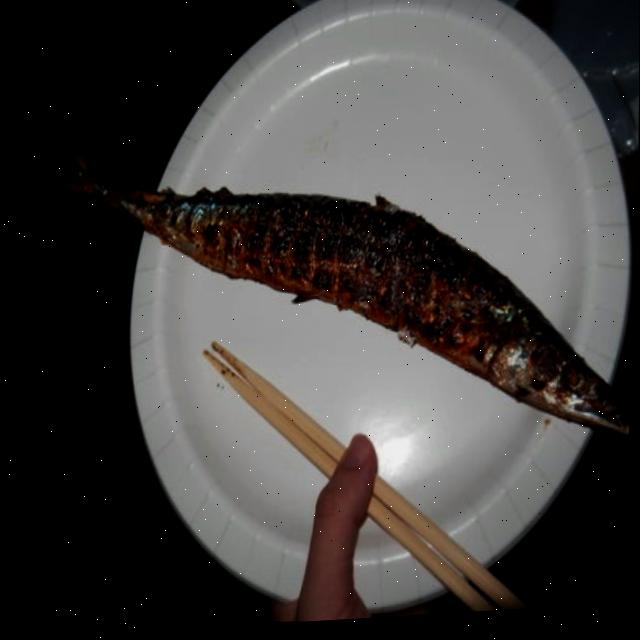熟制海鲜: (37, 0, 640, 638)
